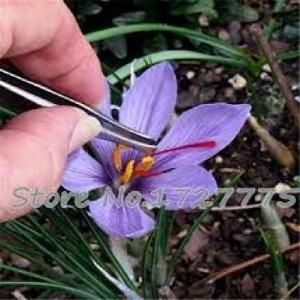Saffron: (49, 65, 252, 239)
